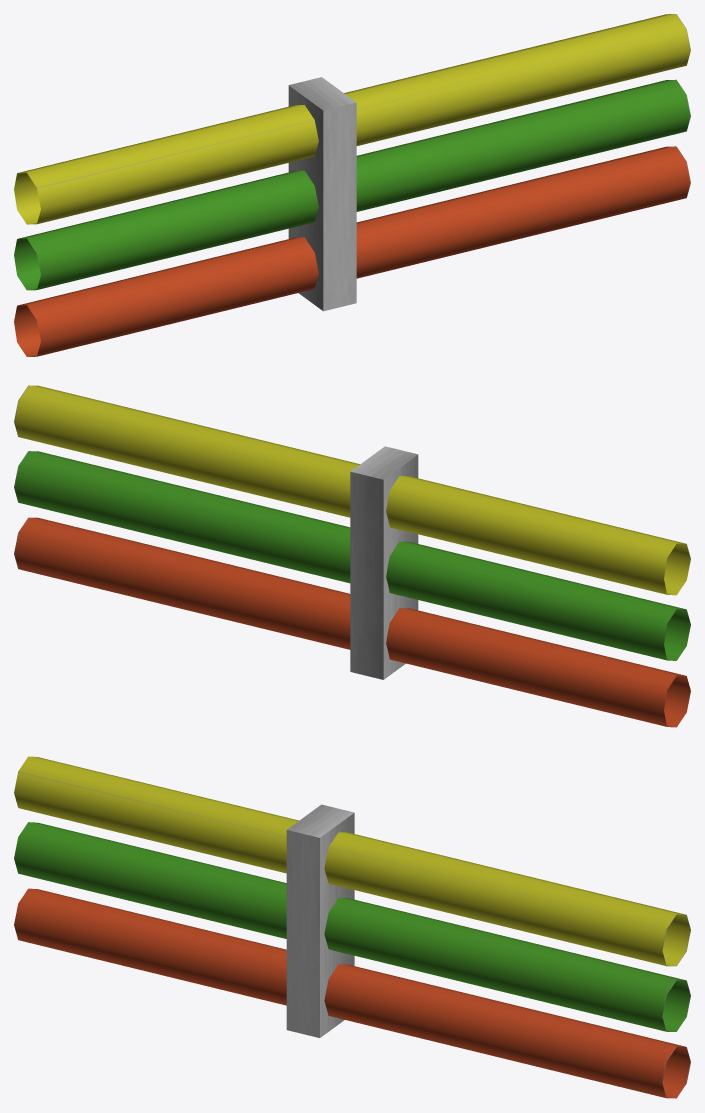
File: PipeMid1.FBX
The picture shows the model from 3 angles, top to bottom: view 1: azimuth 30°, elevation 25°; view 2: azimuth 150°, elevation 25°; view 3: azimuth 330°, elevation 25°; orthographic projection.
Parts seen in each view (by area): view 1: Line001; view 2: Line001; view 3: Line001.
Boxes of the visible parts, <box> form: Line001: <box>14,14,690,356</box>; Line001: <box>14,385,690,727</box>; Line001: <box>14,756,690,1098</box>.
Size of the model in its own units: 39.32 by 11.6 by 3.65.
1 material, 1 textured.
